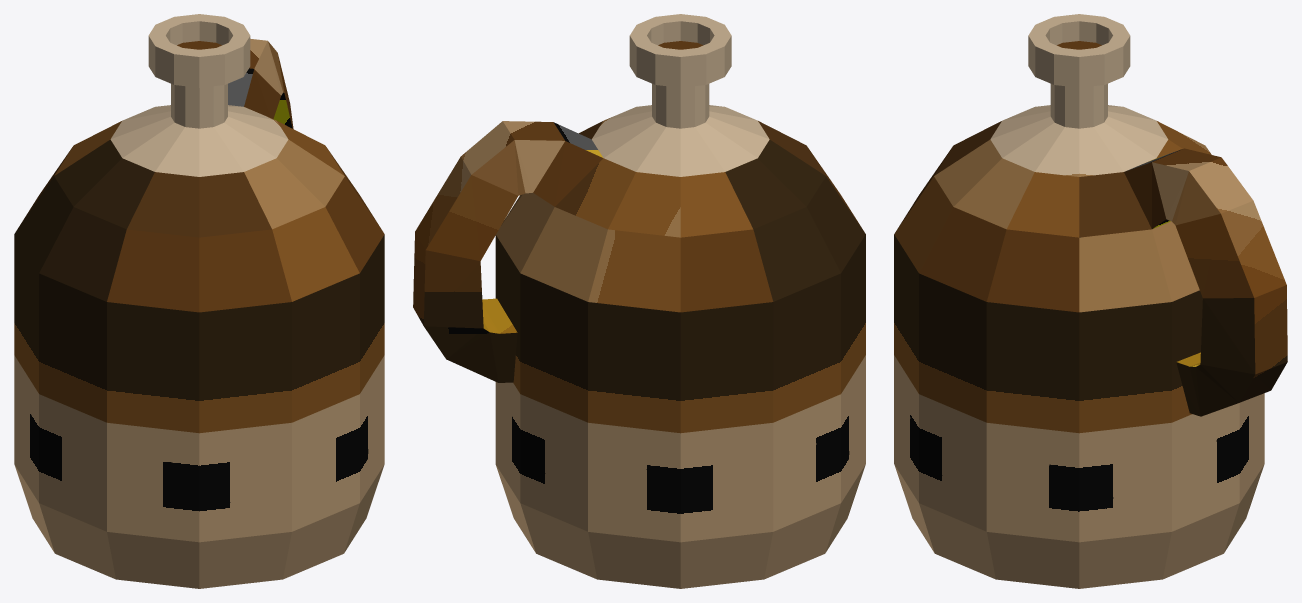
The model's file is bottle_616x06.gltf.
3 renders of one model, left to right at view 1: azimuth 30°, elevation 25°; view 2: azimuth 150°, elevation 25°; view 3: azimuth 270°, elevation 25°, orthographic.
Parts seen in each view (by area): view 1: bottle_616x06; view 2: bottle_616x06; view 3: bottle_616x06.
Boxes of the visible parts, bbox=[...] form: bottle_616x06: bbox=[14, 14, 384, 588]; bottle_616x06: bbox=[413, 14, 865, 588]; bottle_616x06: bbox=[894, 14, 1287, 588].
Bounding box in the file's own units: 0.9422 × 1.28 × 0.9447.
Materials: 1 (1 with a texture image).
